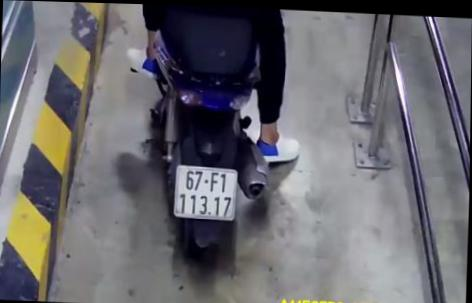LP: (173, 162, 238, 220)
